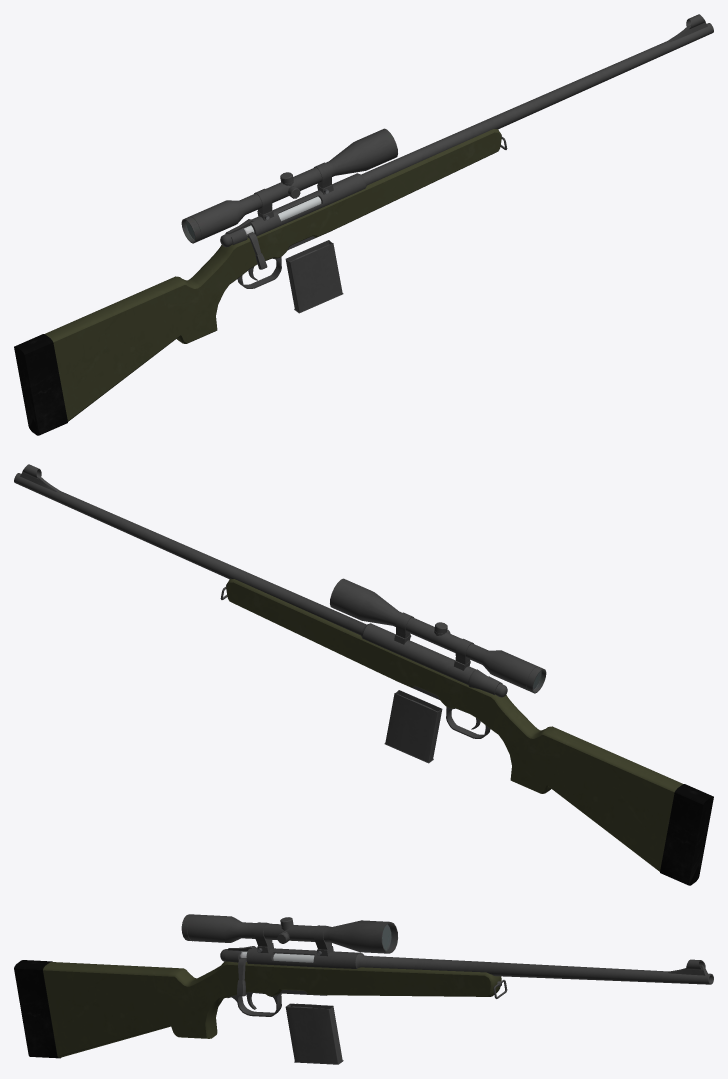
Rendered from sniper.glb.
3 renders of one model, top to bottom at view 1: azimuth 30°, elevation 25°; view 2: azimuth 150°, elevation 25°; view 3: azimuth 330°, elevation 25°, orthographic.
Visible parts, largest first — view 1: sniper; view 2: sniper; view 3: sniper.
Boxes of the visible parts, left/top/right/bottom form: sniper: left=14, top=14, right=713, bottom=435; sniper: left=14, top=464, right=713, bottom=885; sniper: left=14, top=914, right=713, bottom=1064.
Bounding box in the file's own units: 1.12 × 0.3966 × 0.0568.
1 material, 1 textured.
